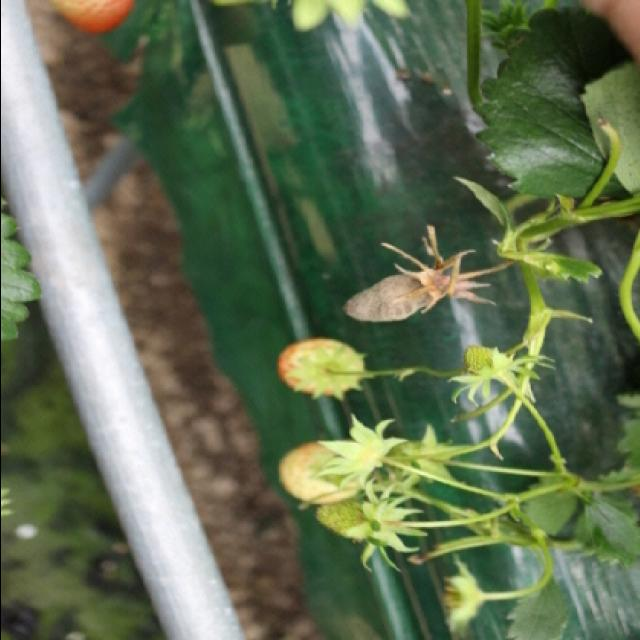Gray Mold: (340, 227, 492, 324)
